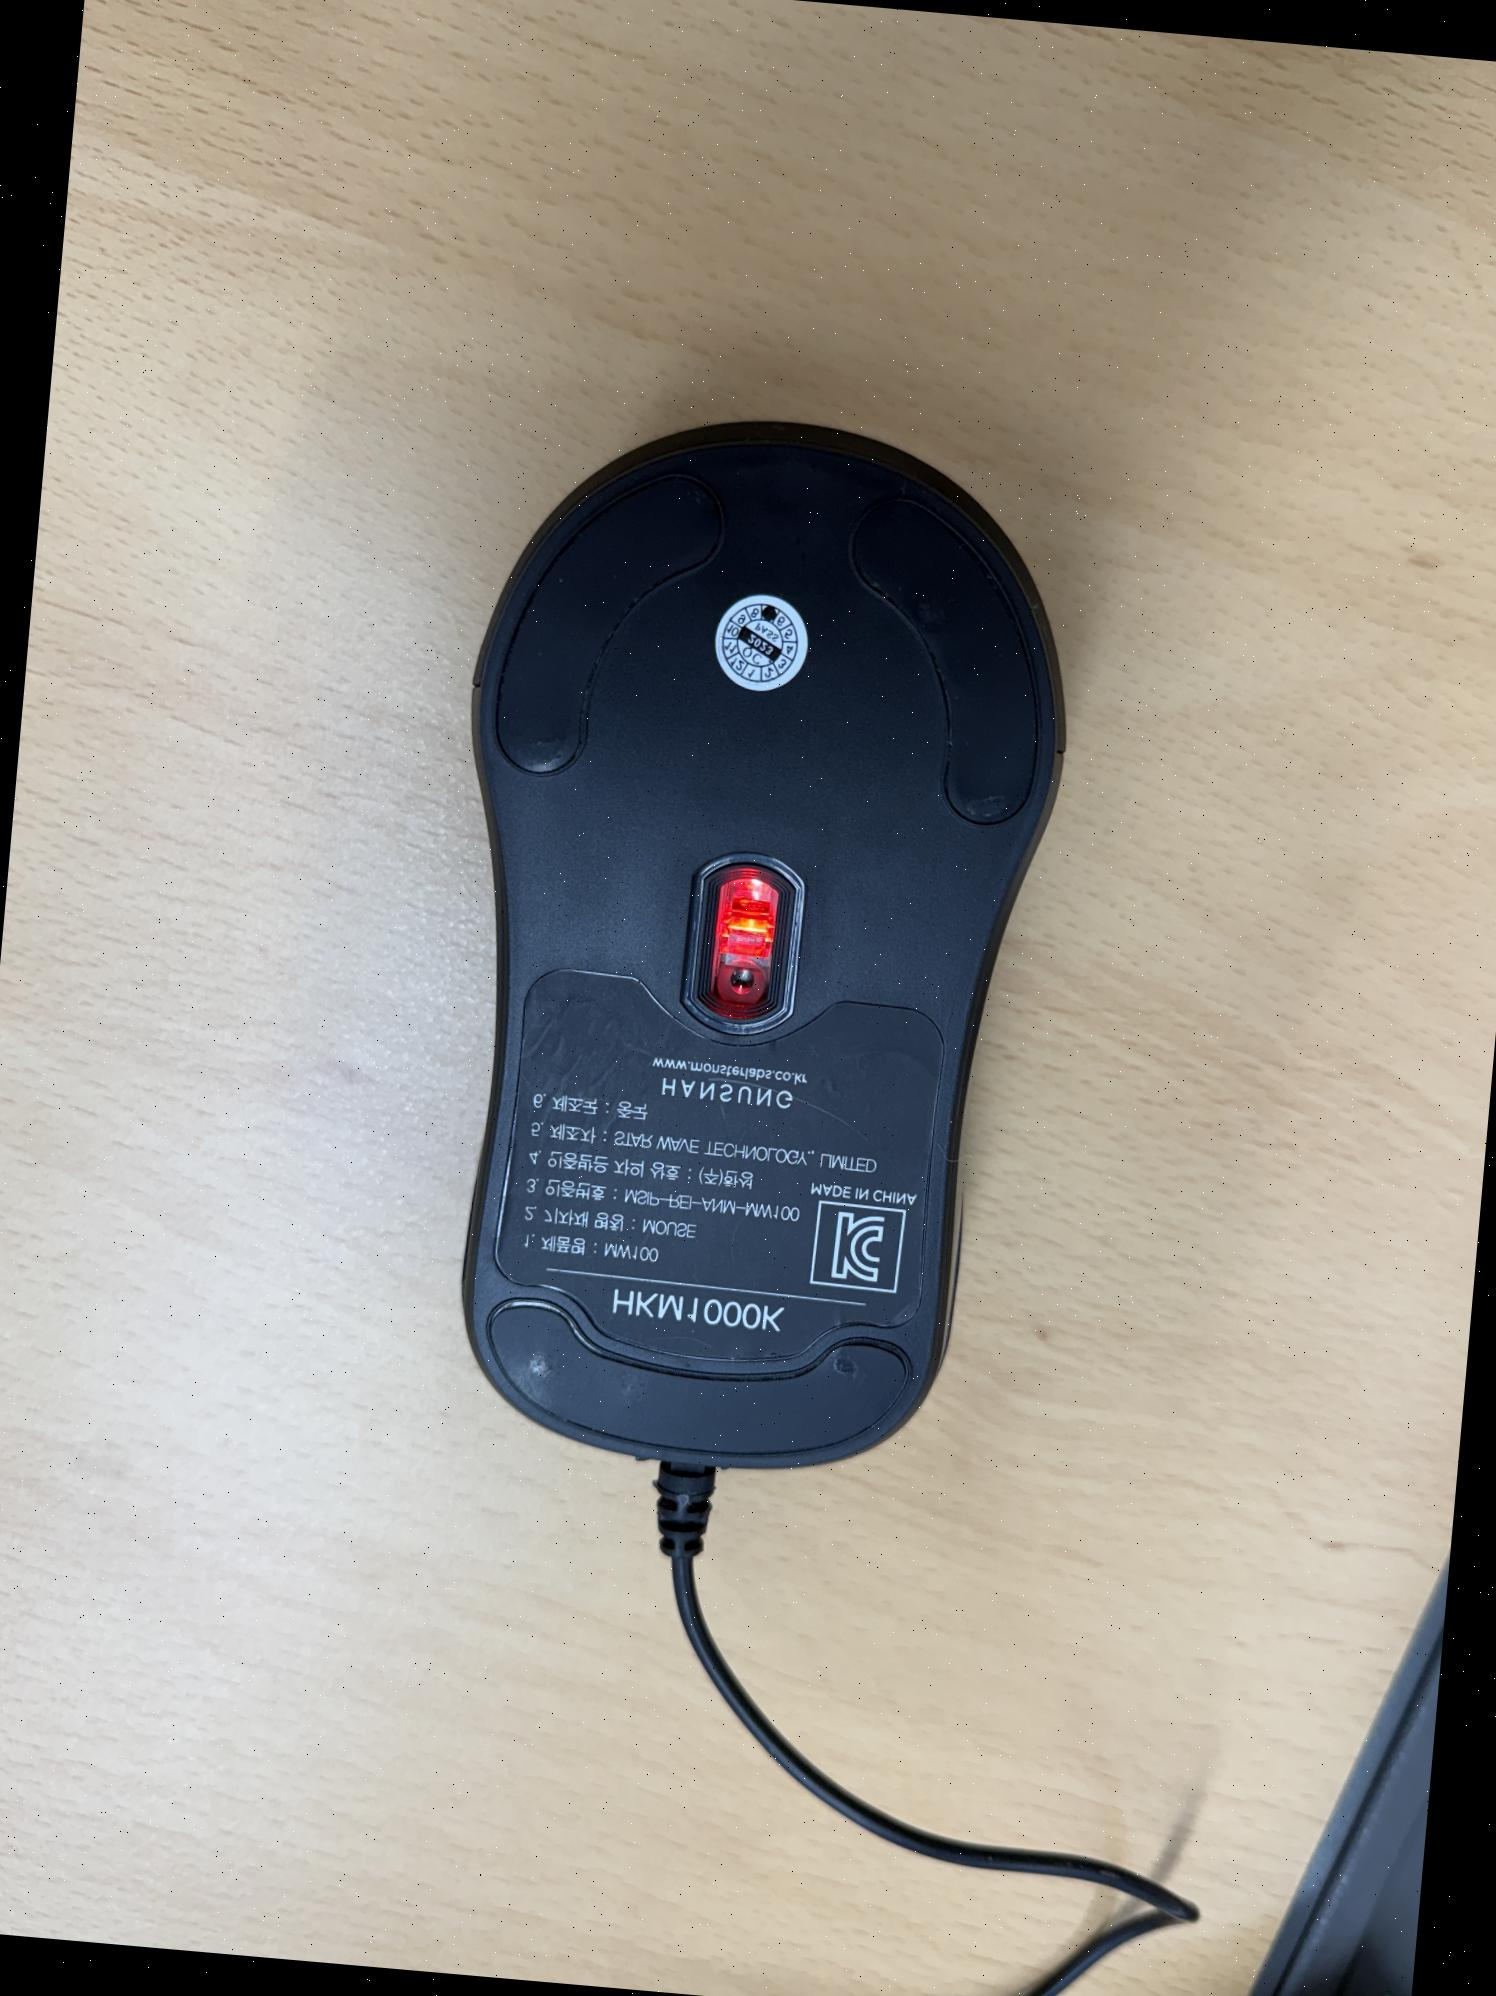back: (401, 387, 1098, 1503)
